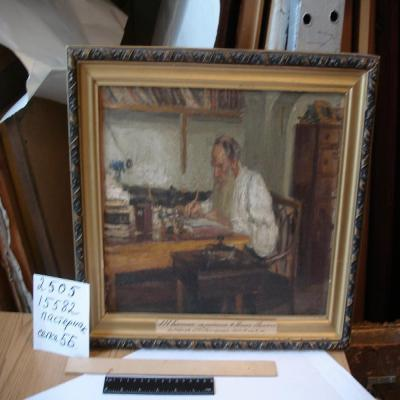painting: (65, 45, 380, 351)
